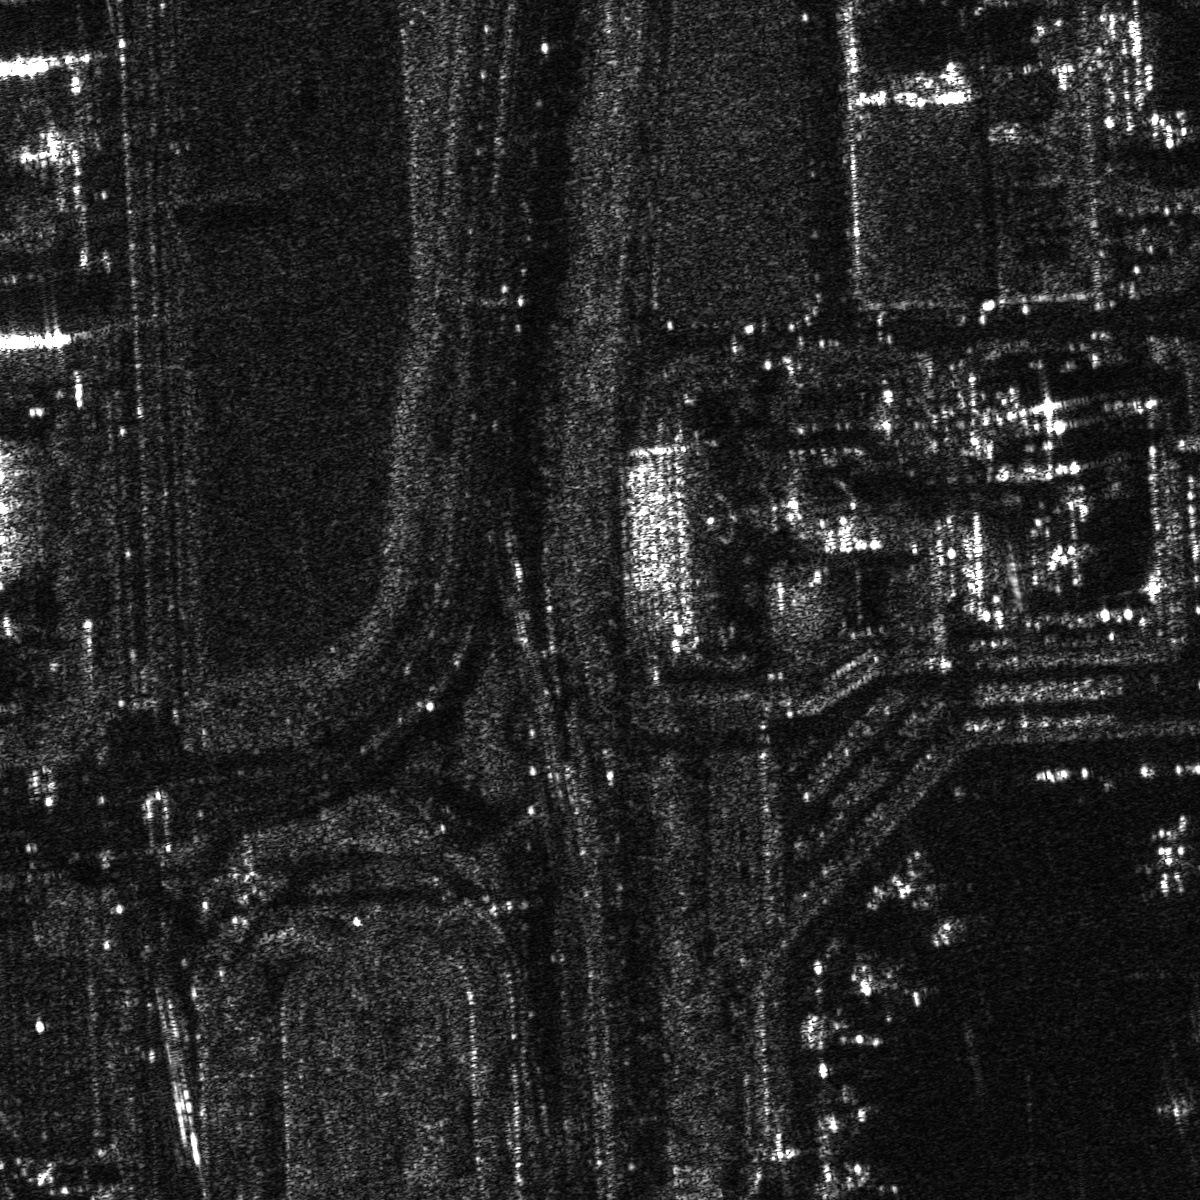A220: (887, 878, 978, 948), (853, 957, 938, 1026)
Boeing737: (1123, 809, 1199, 903)
other: (1152, 1078, 1199, 1137)
